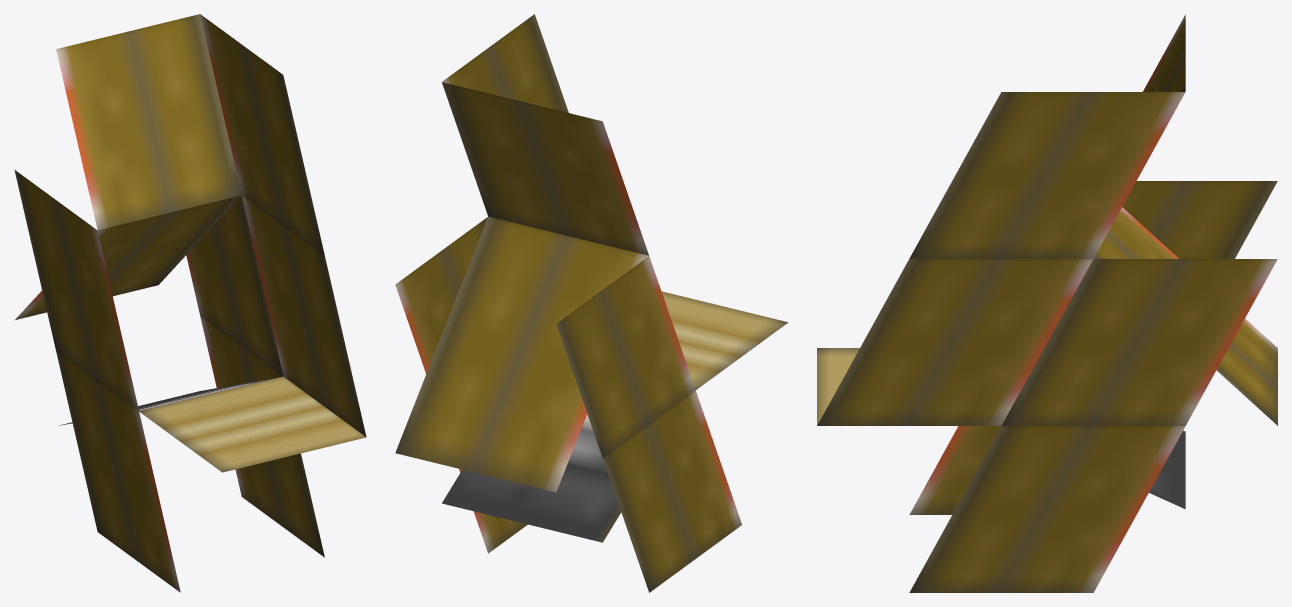
Rendered from tile_indoors_wall_4.obj.
3 views of the same model, side by side, from view 1: azimuth 30°, elevation 25°; view 2: azimuth 150°, elevation 25°; view 3: azimuth 270°, elevation 25° (orthographic). The views are drawn at different scales.
Visible parts, largest first — view 1: Default; view 2: Default; view 3: Default.
Boxes of the visible parts, box(x1,y1,x2,y2) form: Default: box(14, 14, 366, 592); Default: box(395, 14, 788, 592); Default: box(817, 14, 1277, 592).
Size of the model in its own units: 1 by 3 by 2.5.
